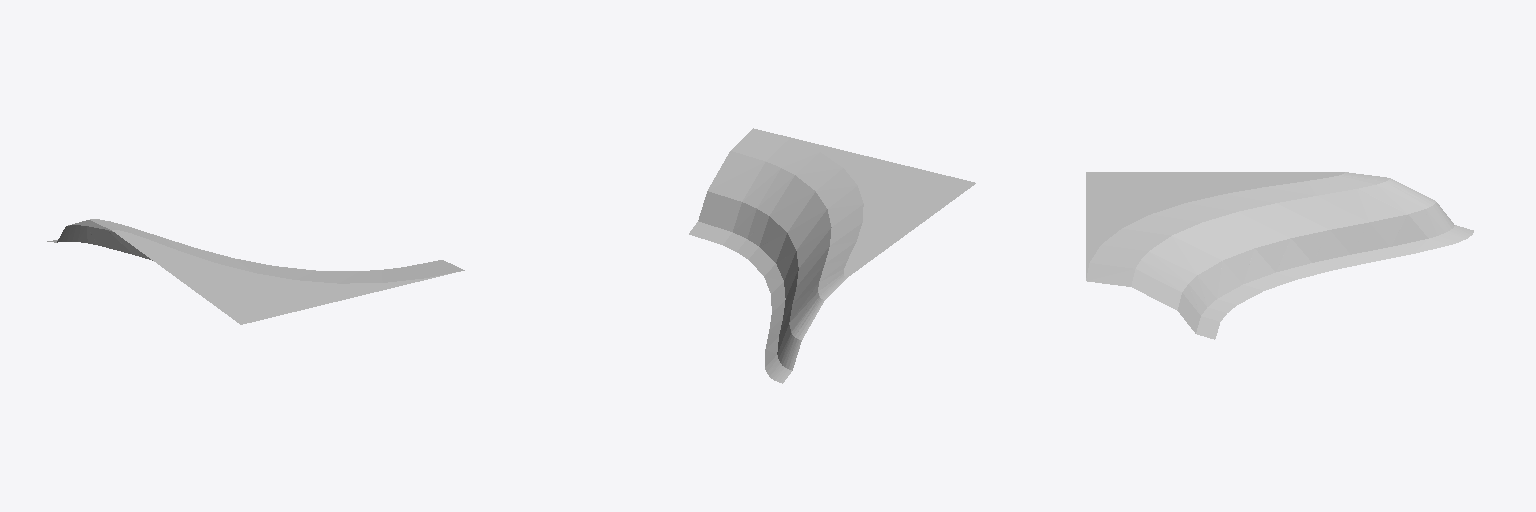
The model's file is Track_Normal_Esse_3x2.obj.
3 views of the same model, side by side, from view 1: azimuth 30°, elevation 25°; view 2: azimuth 150°, elevation 25°; view 3: azimuth 270°, elevation 25° (orthographic).
Visible parts, largest first — view 1: object1; view 2: object1; view 3: object1.
Boxes of the visible parts, x1=… form: object1: x1=47, y1=219, x2=464, y2=324; object1: x1=689, y1=128, x2=975, y2=383; object1: x1=1086, y1=172, x2=1473, y2=339.
Size of the model in its own units: 2 by 0.5 by 3.